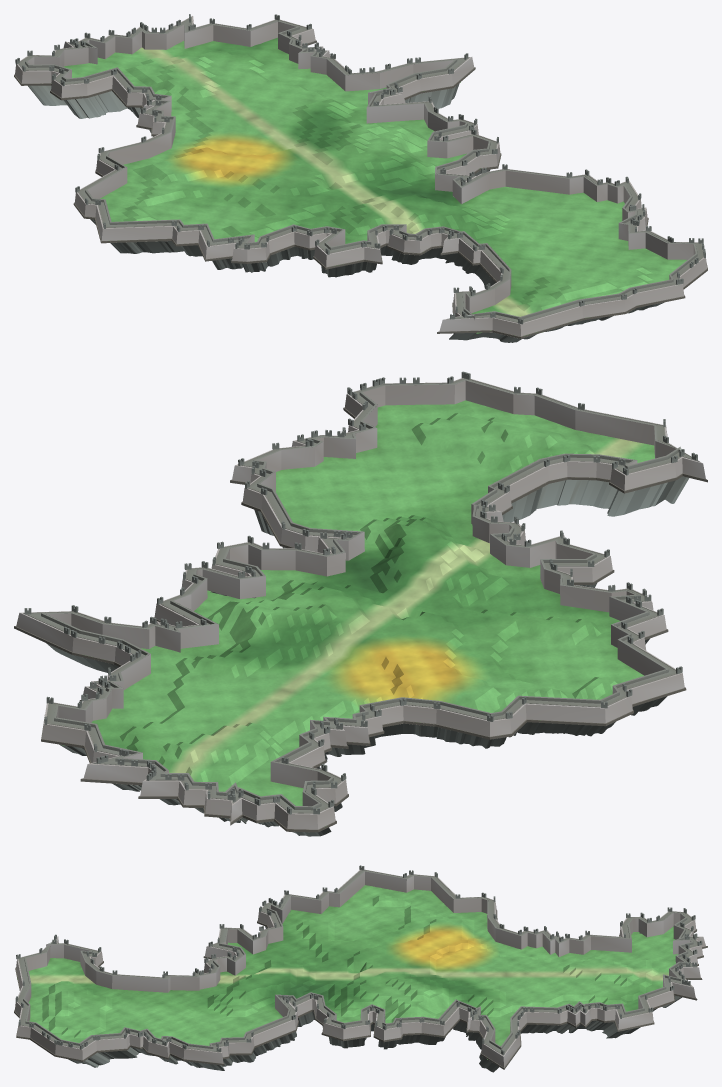
The picture shows the model from 3 angles, top to bottom: view 1: azimuth 30°, elevation 25°; view 2: azimuth 150°, elevation 25°; view 3: azimuth 270°, elevation 25°; orthographic projection. The views are drawn at different scales.
Parts seen in each view (by area): view 1: ground_8d11eea0; view 2: ground_8d11eea0; view 3: ground_8d11eea0.
Boxes of the visible parts, x1=… form: ground_8d11eea0: x1=14, y1=14, x2=707, y2=342; ground_8d11eea0: x1=14, y1=371, x2=707, y2=836; ground_8d11eea0: x1=14, y1=865, x2=707, y2=1072.
Bounding box in the file's own units: 107 × 7.61 × 164.
3 materials, 1 textured.
